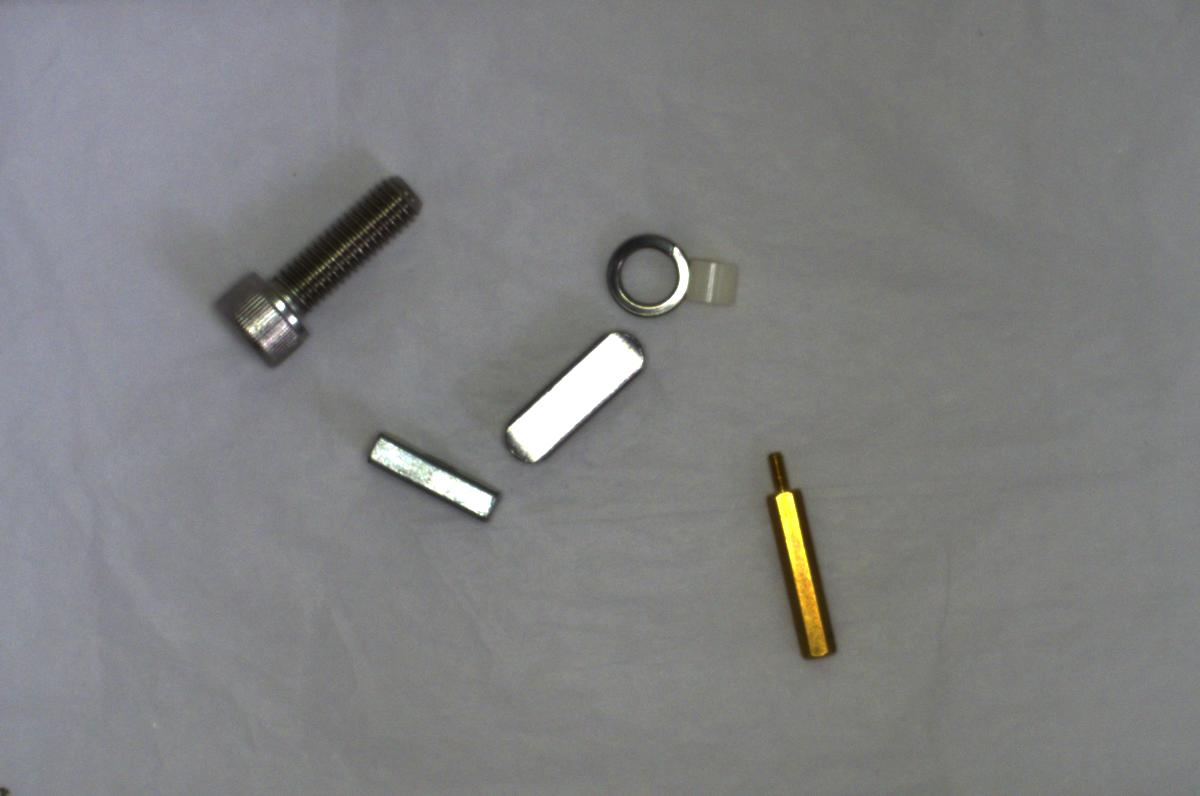Hexagon pillar: (759, 445, 842, 666)
Hexagon screw: (199, 168, 428, 369)
Keybar: (495, 332, 646, 468)
Plastic cushion pillar: (687, 249, 751, 316)
Rectangular nut: (364, 434, 494, 522)
Spring washer: (602, 223, 688, 320)
